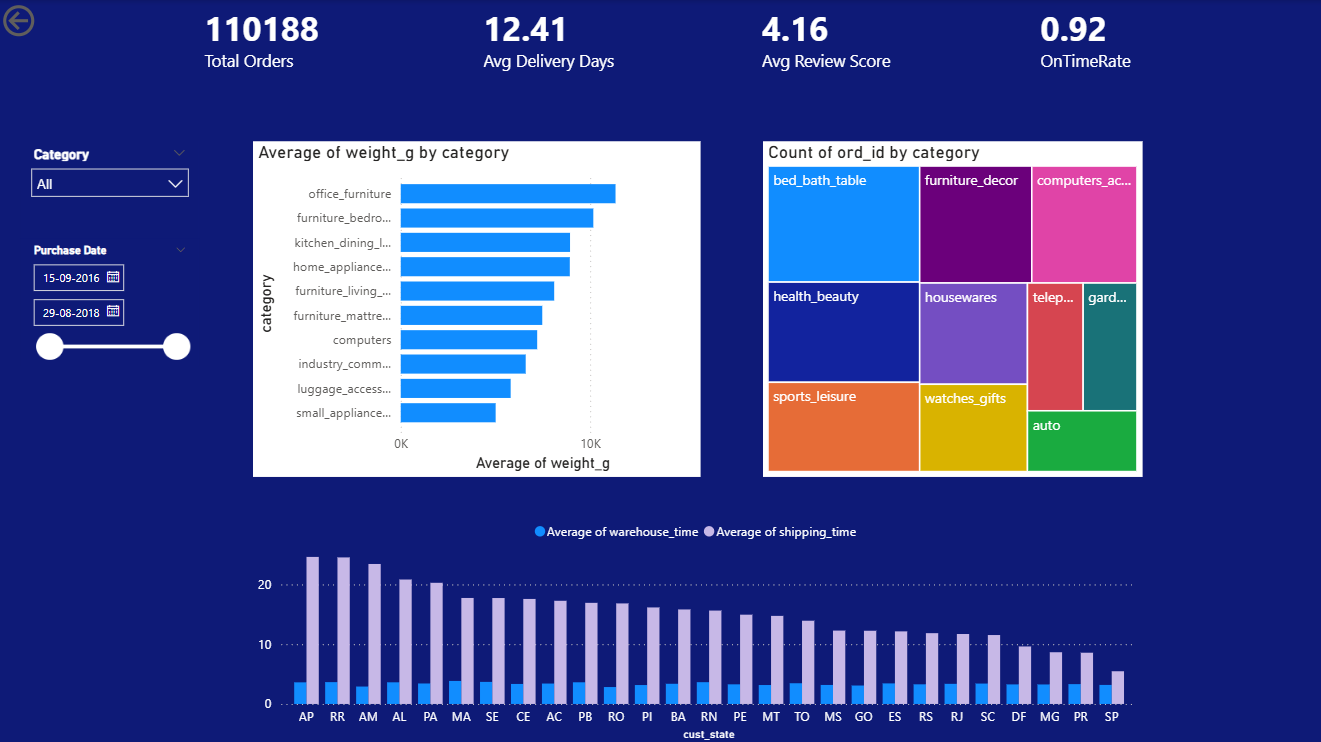

Layout of this report page (visuals, bound fields, positions):
{"tool":"powerbi","page":{"name":"Product Analysis","canvas":[1280,720],"ordinal":1},"visuals":[{"type":"slicer","fields":{"Values":["public view_products_master.category"]},"box":[22,136,172,94],"z":2000},{"type":"slicer","fields":{"Values":["public view_logistics_performance.purchased_at"]},"box":[22,230,172,122],"z":3000},{"type":"multiRowCard","fields":{"Values":["public view_logistics_performance.ord_id","Avg(public view_logistics_performance.total_lead_time)","Avg(public view_customer_feedback.score)","public view_logistics_performance.OnTimeRate"]},"box":[194,0,1086,86],"z":4000},{"type":"actionButton","box":[0,0,100,40],"z":5000},{"type":"treemap","fields":{"Group":["public view_products_master.category"],"Values":["CountNonNull(public view_products_master.ord_id)"]},"box":[738,136,366,324],"z":7000},{"type":"clusteredColumnChart","fields":{"Category":["public view_logistics_performance.cust_state"],"Y":["Avg(public view_logistics_performance.warehouse_time)","Avg(public view_logistics_performance.shipping_time)"]},"box":[246,494,858,226],"z":7001},{"type":"clusteredBarChart","fields":{"Y":["Avg(public view_products_master.weight_g)"],"Category":["public view_products_master.category"]},"box":[246,136,432,324],"z":7002}]}

Visuals, with their boxes in screenshot pixels (x1, y1, x2, y2), scaled from the page's 1280x720 canvas onto the 1321x742 screenshot:
slicer - public view_products_master.category: 23 140 200 237
slicer - public view_logistics_performance.purchased_at: 23 237 200 363
multiRowCard - public view_logistics_performance.ord_id x Avg(public view_logistics_performance.total_lead_time): 200 0 1320 89
actionButton: 0 0 103 41
treemap - public view_products_master.category x CountNonNull(public view_products_master.ord_id): 762 140 1139 474
clusteredColumnChart - public view_logistics_performance.cust_state x Avg(public view_logistics_performance.warehouse_time): 254 509 1139 741
clusteredBarChart - Avg(public view_products_master.weight_g) x public view_products_master.category: 254 140 700 474
